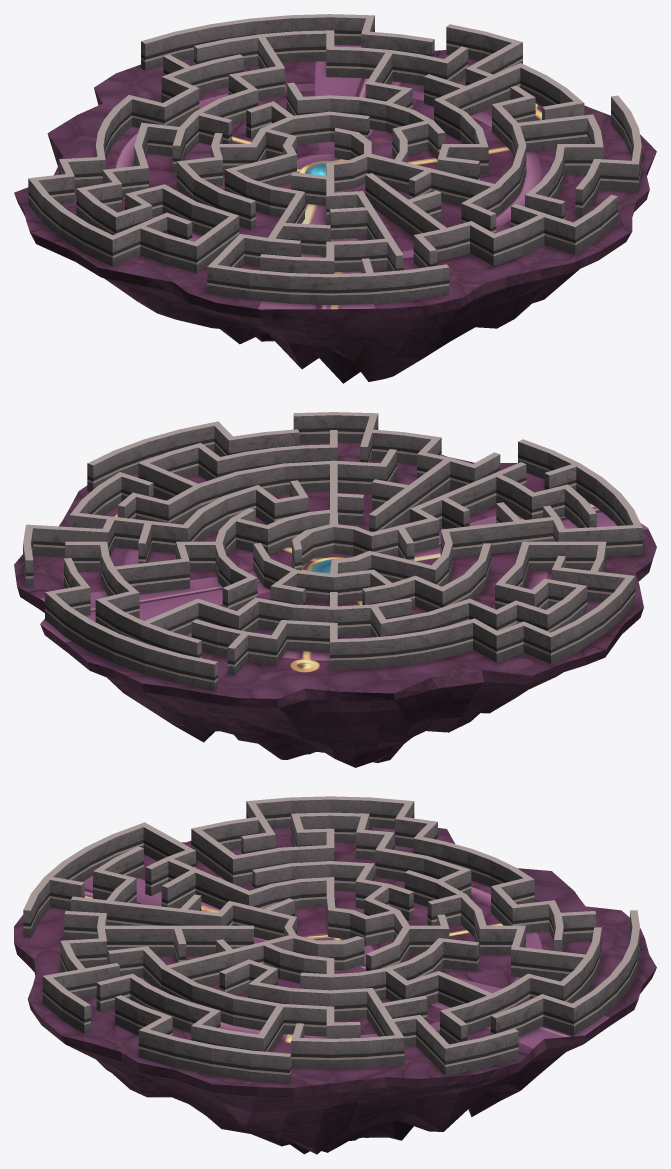
File: maze_new.fbx
3 views of the same model, one above another, from view 1: azimuth 30°, elevation 25°; view 2: azimuth 150°, elevation 25°; view 3: azimuth 270°, elevation 25° (orthographic).
Visible parts, largest first — view 1: MG_Walls, Ilha; view 2: MG_Walls, Ilha; view 3: MG_Walls, Ilha.
Part boxes in pixels (box(x1,y1,x2,y2)): MG_Walls: box(28, 14, 641, 304); Ilha: box(14, 45, 656, 383); MG_Walls: box(23, 412, 642, 691); Ilha: box(14, 442, 656, 767); MG_Walls: box(23, 796, 639, 1084); Ilha: box(14, 827, 656, 1154).
Bounding box in the file's own units: 1683 × 656 × 1681.
